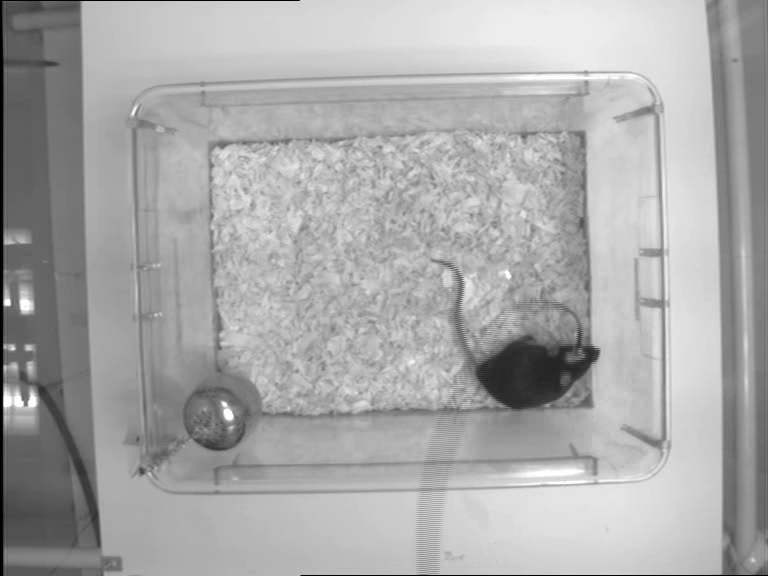mice: (429, 258, 602, 413)
